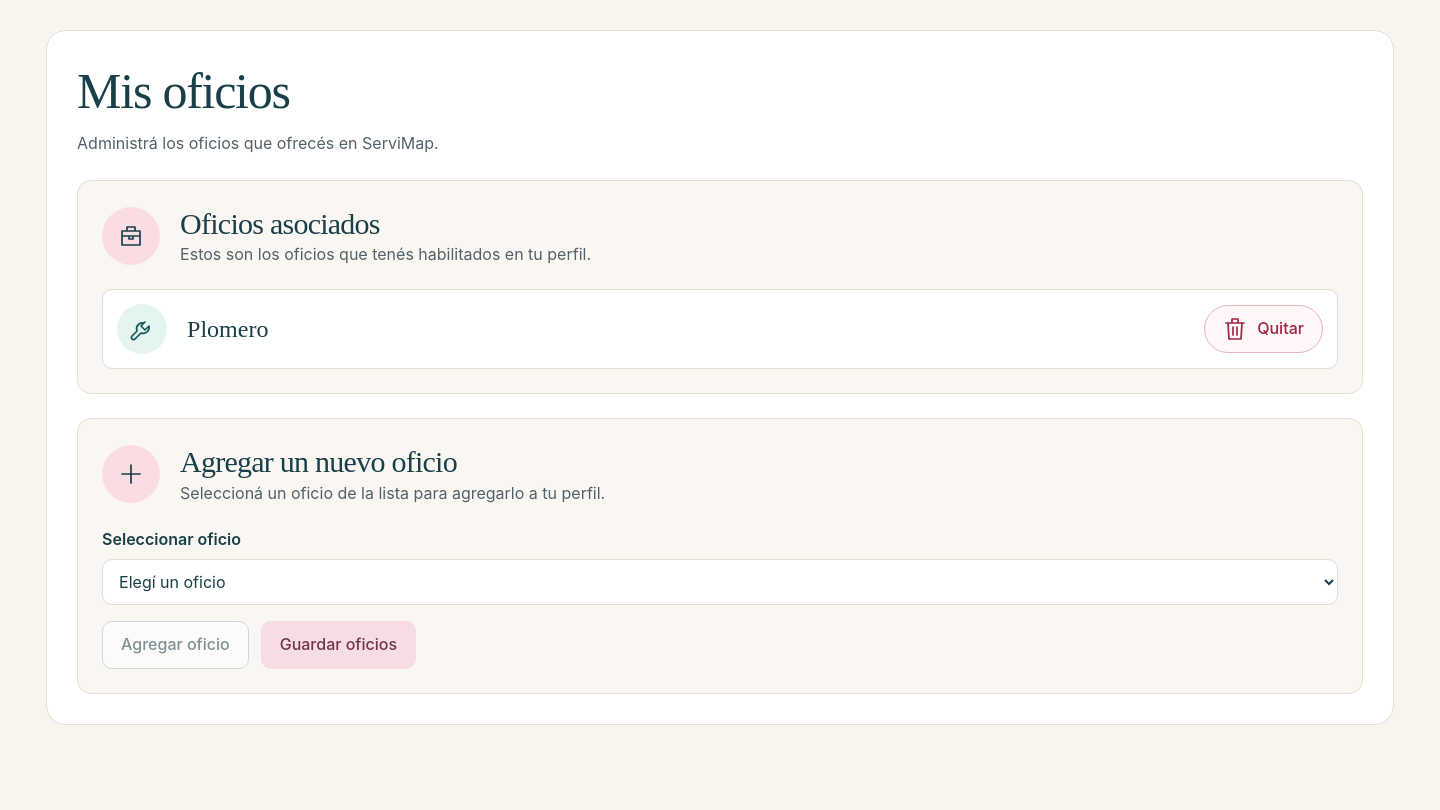
Oficios remotos del prestador › no confirma cambios rechazados por el backend
Expected: the button with aria-label "Quitar Plomero" is shown, [1204, 305, 1323, 353]
Click the button "Guardar oficios" at [338, 645], box [261, 621, 416, 669]
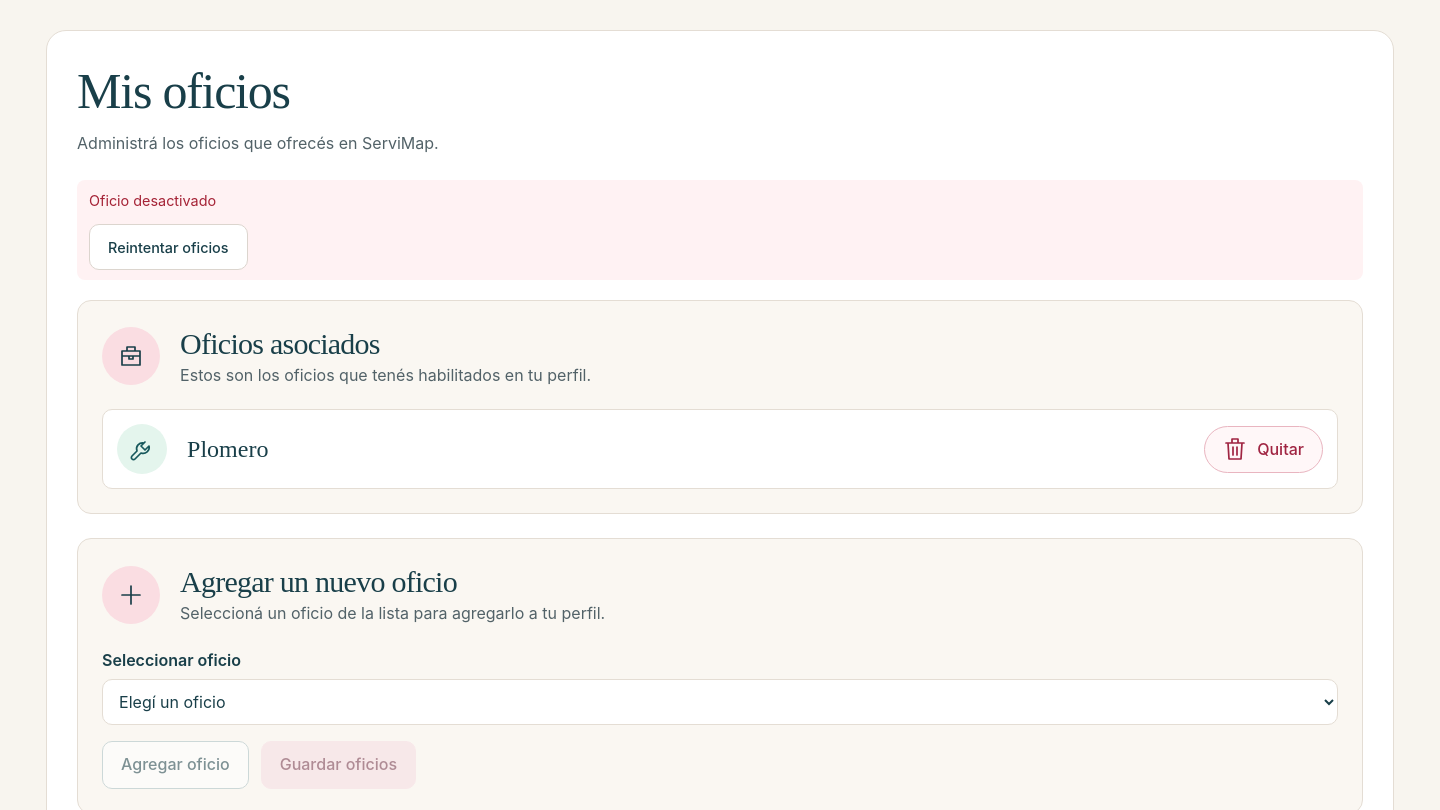
Expected: the message shows "Oficio desactivado", [89, 192, 216, 209]
